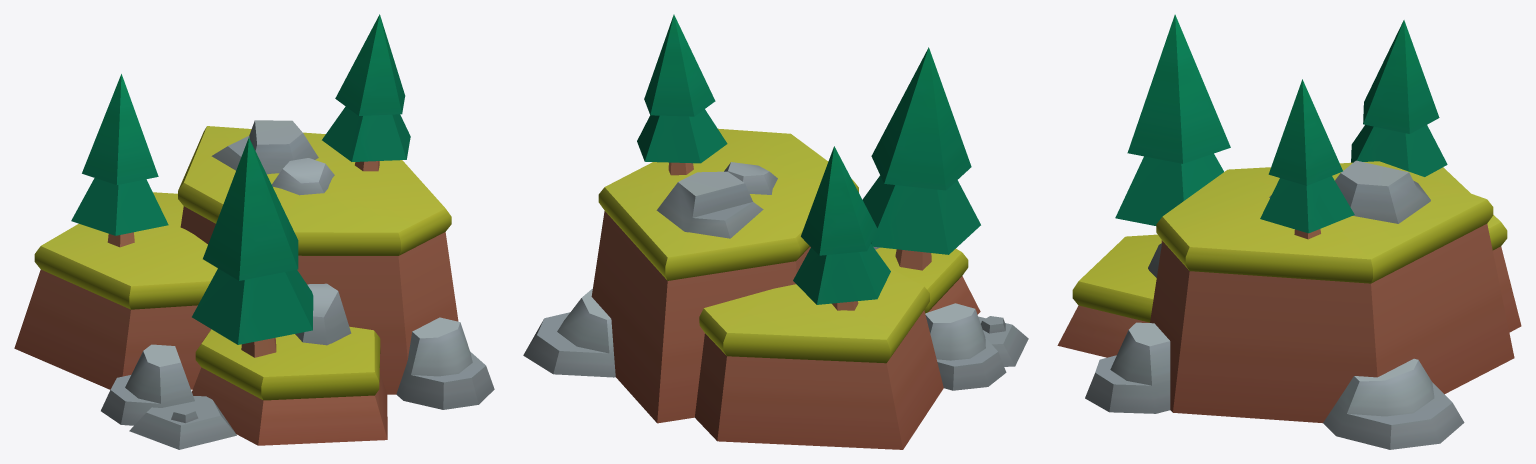
Rendered from kay-colina-arvores.gltf.
3 views of the same model, side by side, from view 1: azimuth 30°, elevation 25°; view 2: azimuth 150°, elevation 25°; view 3: azimuth 270°, elevation 25° (orthographic). The views are drawn at different scales.
Parts seen in each view (by area): view 1: hills_A_trees; view 2: hills_A_trees; view 3: hills_A_trees.
Boxes of the visible parts, <box> form: hills_A_trees: <box>14,14,494,449</box>; hills_A_trees: <box>523,14,1028,449</box>; hills_A_trees: <box>1057,14,1521,449</box>.
Bounding box in the file's own units: 8.78 × 6.66 × 8.69.
1 material, 1 textured.
